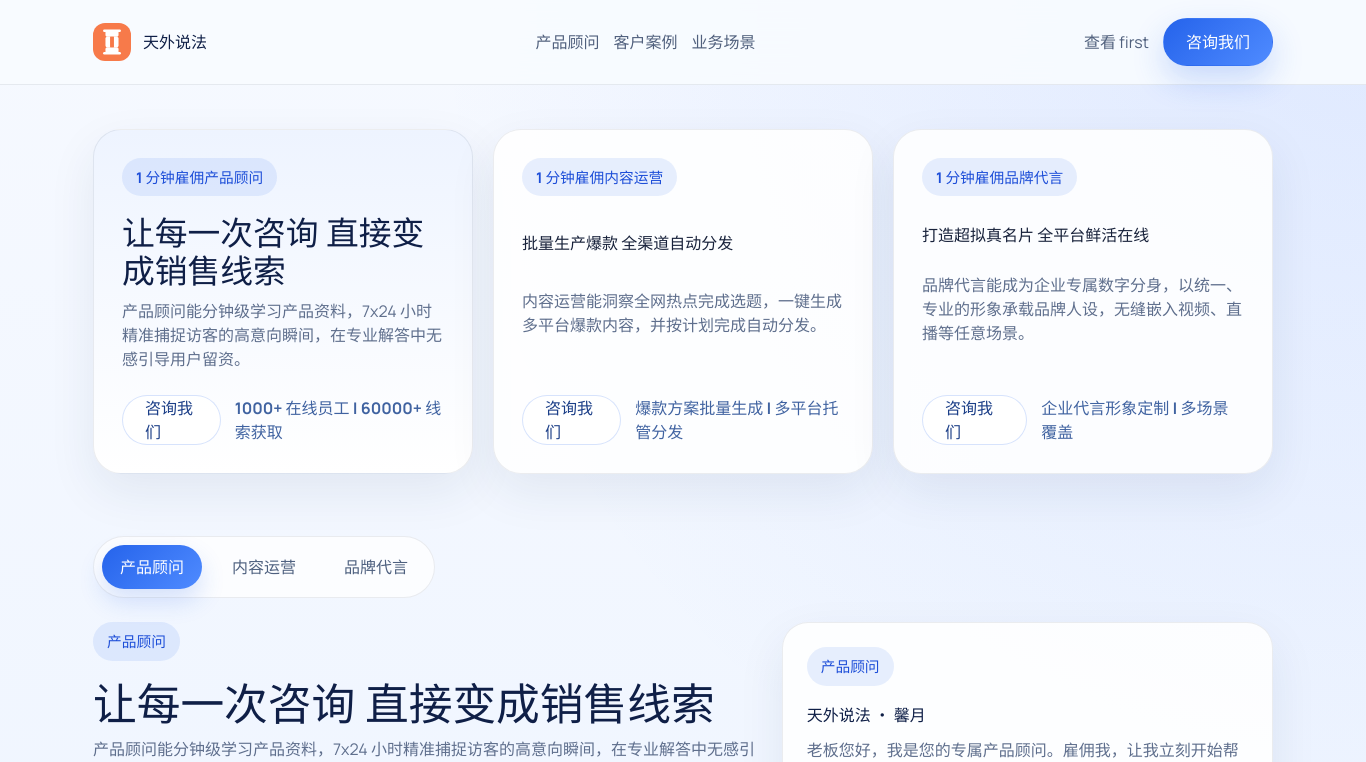
Test: SecondPage › 支持切换数字员工类型
Expected: the heading "天外说法 · 馨月" is shown, 807,702 -> 926,726
Click the button "内容运营" at [264, 568], box 214,546 -> 314,590
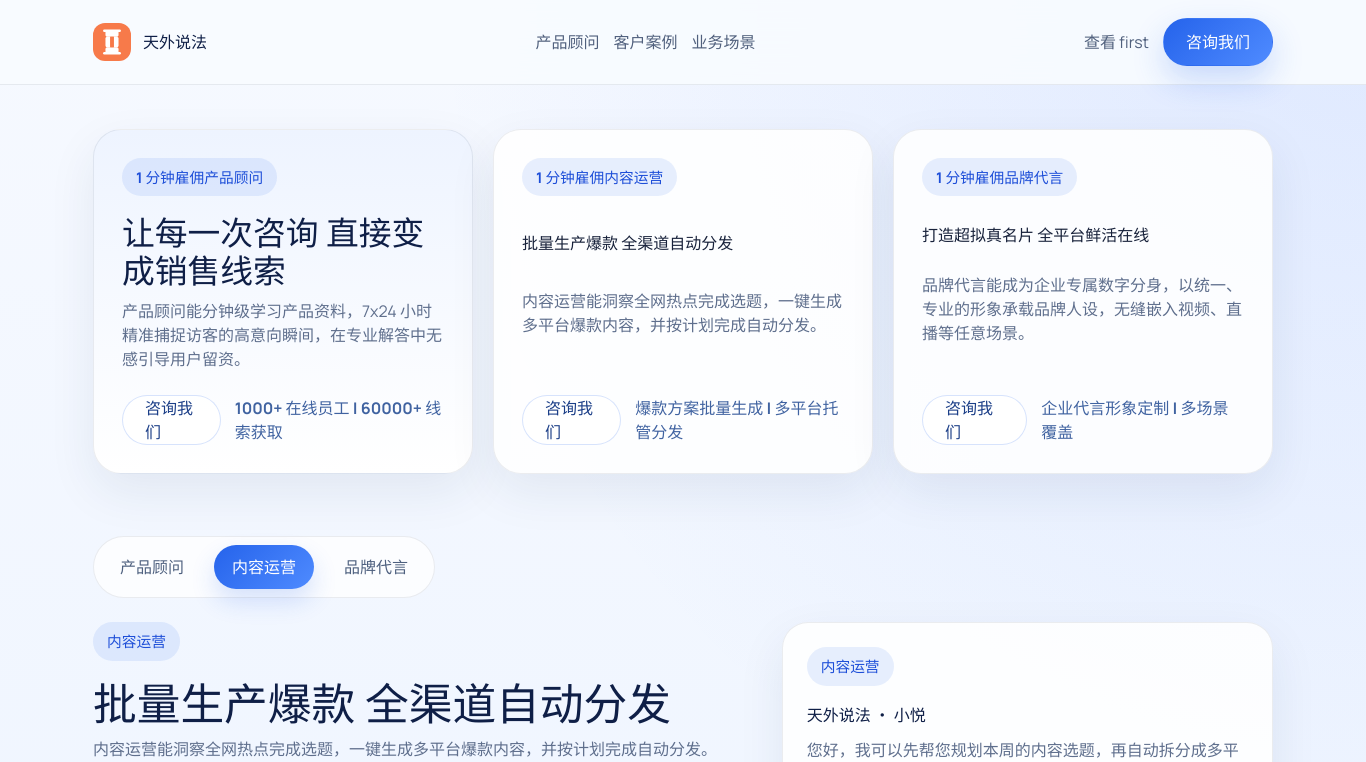
Expected: the heading "天外说法 · 小悦" is shown, 807,702 -> 926,726
